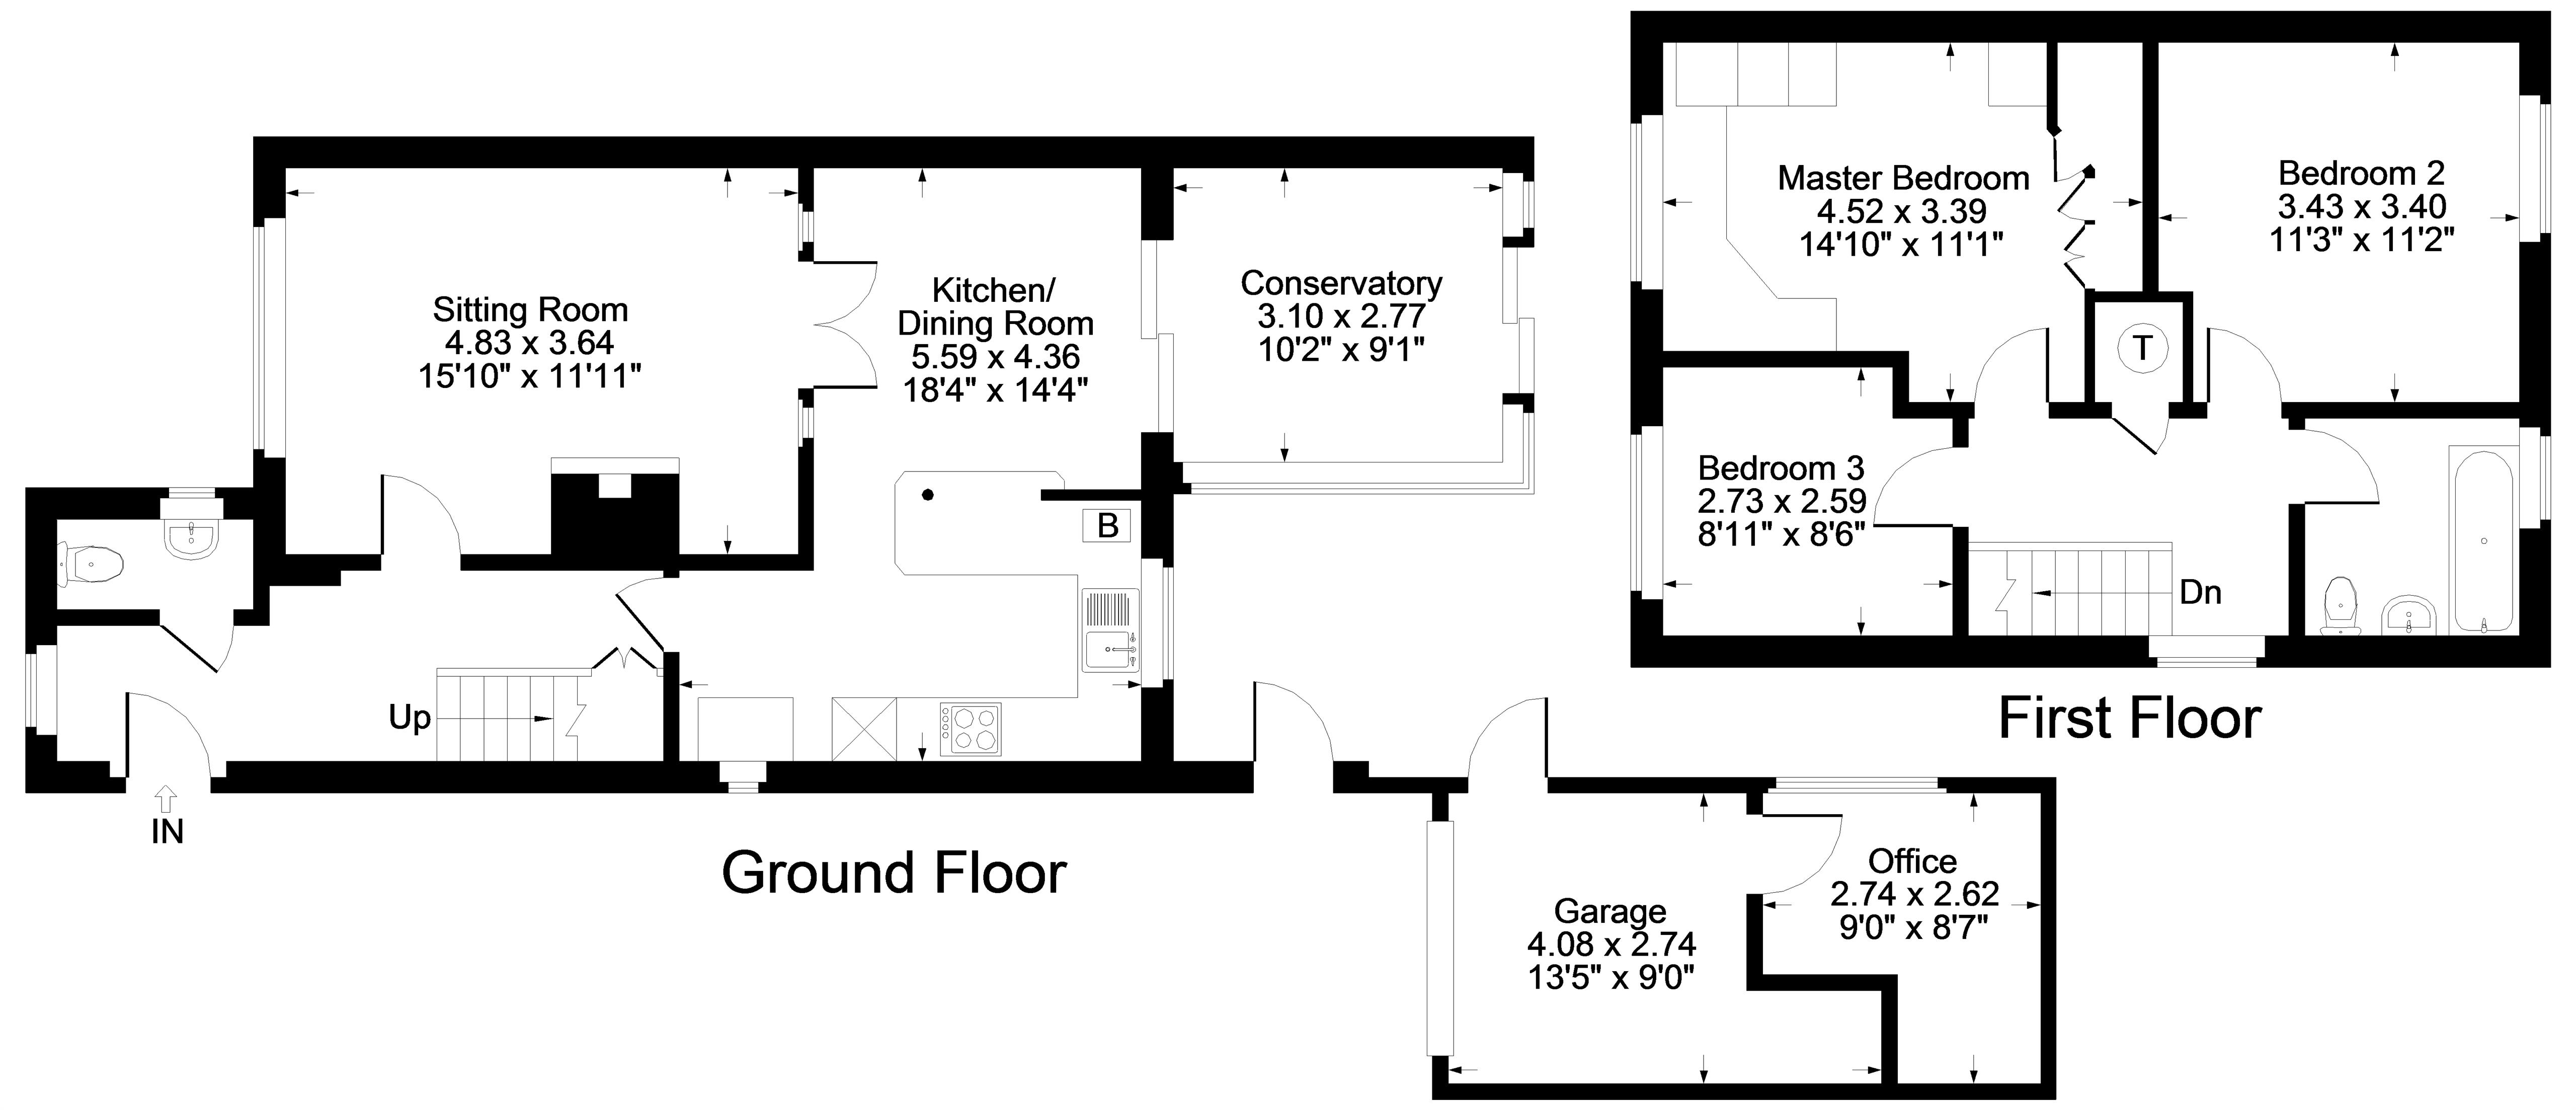wall: (261, 146, 1515, 158), (1438, 1087, 2049, 1103), (1649, 16, 2548, 25), (771, 775, 1234, 785), (1147, 435, 1173, 563), (26, 754, 118, 790), (1649, 351, 1901, 365), (1646, 650, 2139, 655), (2049, 788, 2055, 1095), (1549, 777, 1774, 785), (468, 560, 808, 565), (665, 658, 679, 780), (1053, 486, 1173, 499), (2081, 287, 2187, 300), (39, 499, 278, 504), (802, 396, 808, 570), (1953, 527, 1962, 660), (2182, 291, 2190, 414), (2086, 300, 2095, 409), (2282, 647, 2540, 650), (235, 775, 715, 777), (2298, 409, 2528, 412), (44, 617, 156, 624), (1644, 291, 1649, 425), (1761, 979, 1893, 984), (269, 465, 273, 589), (1155, 163, 1160, 236), (1347, 788, 1472, 790), (1947, 783, 2044, 785)
